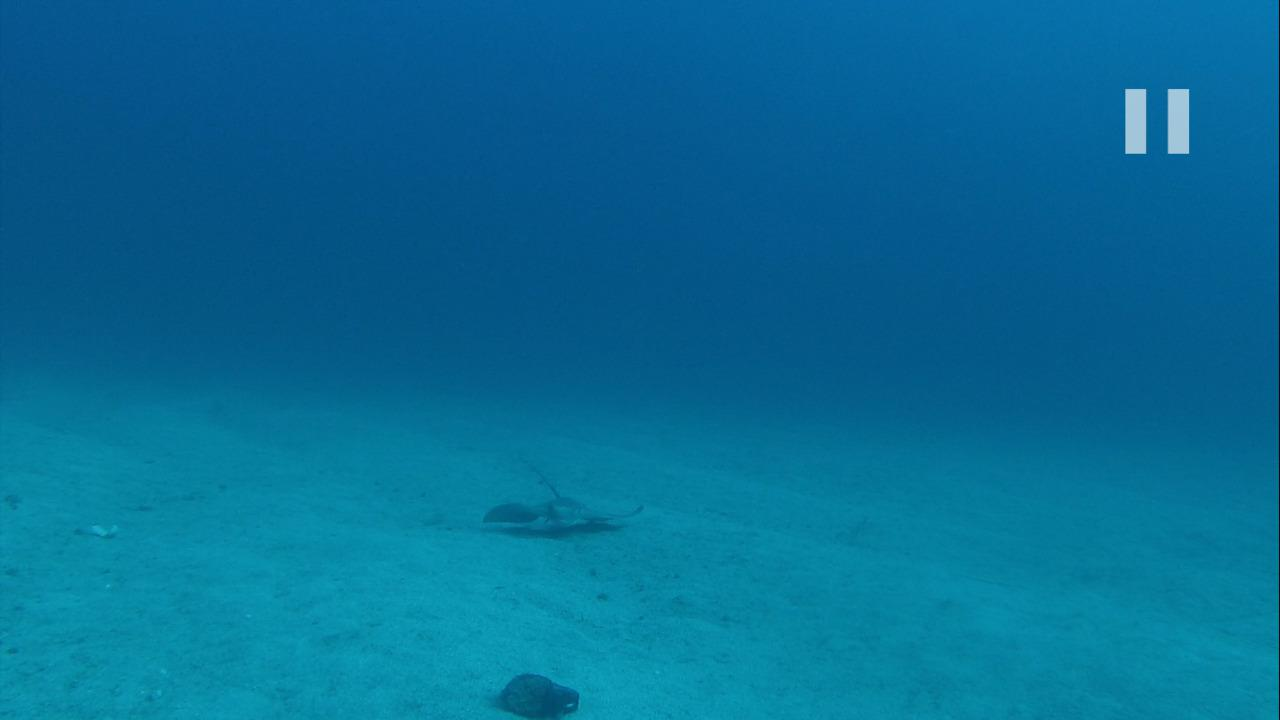myliobatis: (482, 461, 648, 538)
